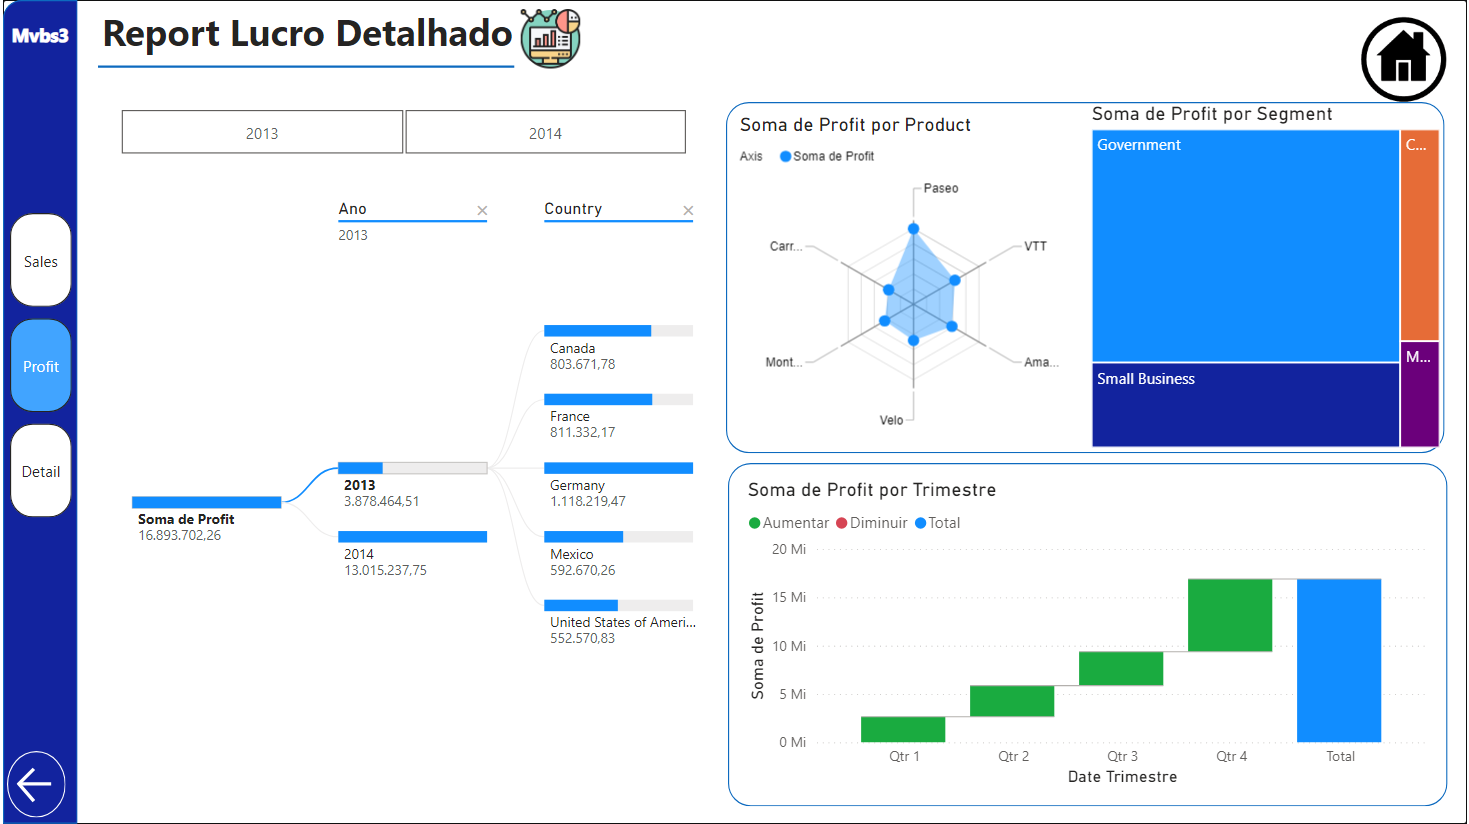

The page's visual inventory and layout, read from the dashboard file:
{"tool":"powerbi","page":{"name":"Profit","canvas":[1280,720],"ordinal":1},"visuals":[{"type":"group","id":"g1","title":"Grupo 1","box":[0,0,65.2,719.8],"z":0},{"type":"shape","box":[632,89,627.8,306.8],"z":0,"group":"g3"},{"type":"shape","box":[633.2,405,628.6,300],"z":0,"group":"g4"},{"type":"shape","box":[0,0,65.2,719.8],"z":1000,"group":"g1"},{"type":"shape","box":[83.3,44.5,363.9,27.4],"z":1000},{"type":"RadarChart1446119667547","fields":{"Category":["financials.Product"],"Y":["Sum(financials.Profit)"]},"box":[638.9,98.7,313.7,287.8],"z":1000,"group":"g3"},{"type":"decompositionTreeVisual","fields":{"Analyze":["Sum(financials.Profit)"],"ExplainBy":["financials.Date.Variation.Hierarquia de datas.Ano","financials.Country"]},"box":[83.3,157.1,531.6,541.5],"z":1000,"group":"g2"},{"type":"waterfallChart","fields":{"Category":["financials.Date.Variation.Hierarquia de datas.Trimestre"],"Y":["Sum(financials.Profit)"]},"box":[645.3,417.9,604.3,274.2],"z":1000,"group":"g4"},{"type":"textbox","box":[81,0,465.5,53.6],"z":2000},{"type":"treemap","fields":{"Values":["Sum(financials.Profit)"],"Group":["financials.Segment"]},"box":[946.8,89,313.9,306.8],"z":2000,"group":"g3"},{"type":"actionButton","box":[7.7,665.9,46.9,40.2],"z":3000},{"type":"slicer","fields":{"Values":["financials.Date.Variation.Hierarquia de datas.Ano"]},"box":[77.6,89,543,52.5],"z":4000},{"type":"group","id":"g2","title":"Grupo arvore","box":[83.3,157.1,531.6,541.5],"z":5000},{"type":"group","id":"g3","title":"Grupo profit","box":[632,89,628.6,297.8],"z":6000},{"type":"group","id":"g4","title":"Grupo profit Trimestre","box":[633.2,405,628.6,300],"z":7000},{"type":"textbox","box":[2.9,15,74.7,38.3],"z":8000},{"type":"pageNavigator","box":[5.7,186,54.8,268.1],"z":9000},{"type":"image","box":[447.2,1.1,61.6,66.2],"z":10000},{"type":"shape","box":[3.4,656,51.3,58.2],"z":11000},{"type":"image","box":[1167.1,0,112.9,105],"z":11001}]}

Visuals, with their boxes on the page's 1280x720 design canvas (x1, y1, x2, y2). These are canvas units, not pixel positions in the 1469x824 screenshot, which may show the page scaled, cropped or inside an application window:
"Grupo 1" group: x1=0 y1=0 x2=65 y2=720
shape: x1=632 y1=89 x2=1260 y2=396
shape: x1=633 y1=405 x2=1262 y2=705
shape: x1=0 y1=0 x2=65 y2=720
shape: x1=83 y1=44 x2=447 y2=72
RadarChart1446119667547 - financials.Product x Sum(financials.Profit): x1=639 y1=99 x2=953 y2=386
decompositionTreeVisual - Sum(financials.Profit) x financials.Date.Variation.Hierarquia de datas.Ano: x1=83 y1=157 x2=615 y2=699
waterfallChart - financials.Date.Variation.Hierarquia de datas.Trimestre x Sum(financials.Profit): x1=645 y1=418 x2=1250 y2=692
textbox: x1=81 y1=0 x2=546 y2=54
treemap - Sum(financials.Profit) x financials.Segment: x1=947 y1=89 x2=1261 y2=396
actionButton: x1=8 y1=666 x2=55 y2=706
slicer - financials.Date.Variation.Hierarquia de datas.Ano: x1=78 y1=89 x2=621 y2=142
"Grupo arvore" group: x1=83 y1=157 x2=615 y2=699
"Grupo profit" group: x1=632 y1=89 x2=1261 y2=387
"Grupo profit Trimestre" group: x1=633 y1=405 x2=1262 y2=705
textbox: x1=3 y1=15 x2=78 y2=53
pageNavigator: x1=6 y1=186 x2=60 y2=454
image: x1=447 y1=1 x2=509 y2=67
shape: x1=3 y1=656 x2=55 y2=714
image: x1=1167 y1=0 x2=1280 y2=105
